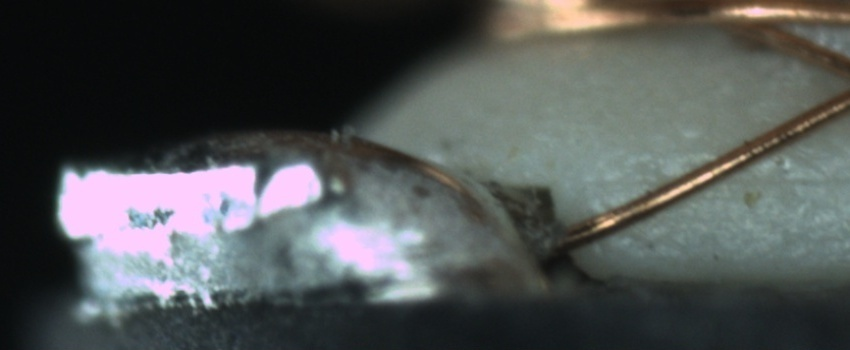DL: (632, 140, 849, 213)
